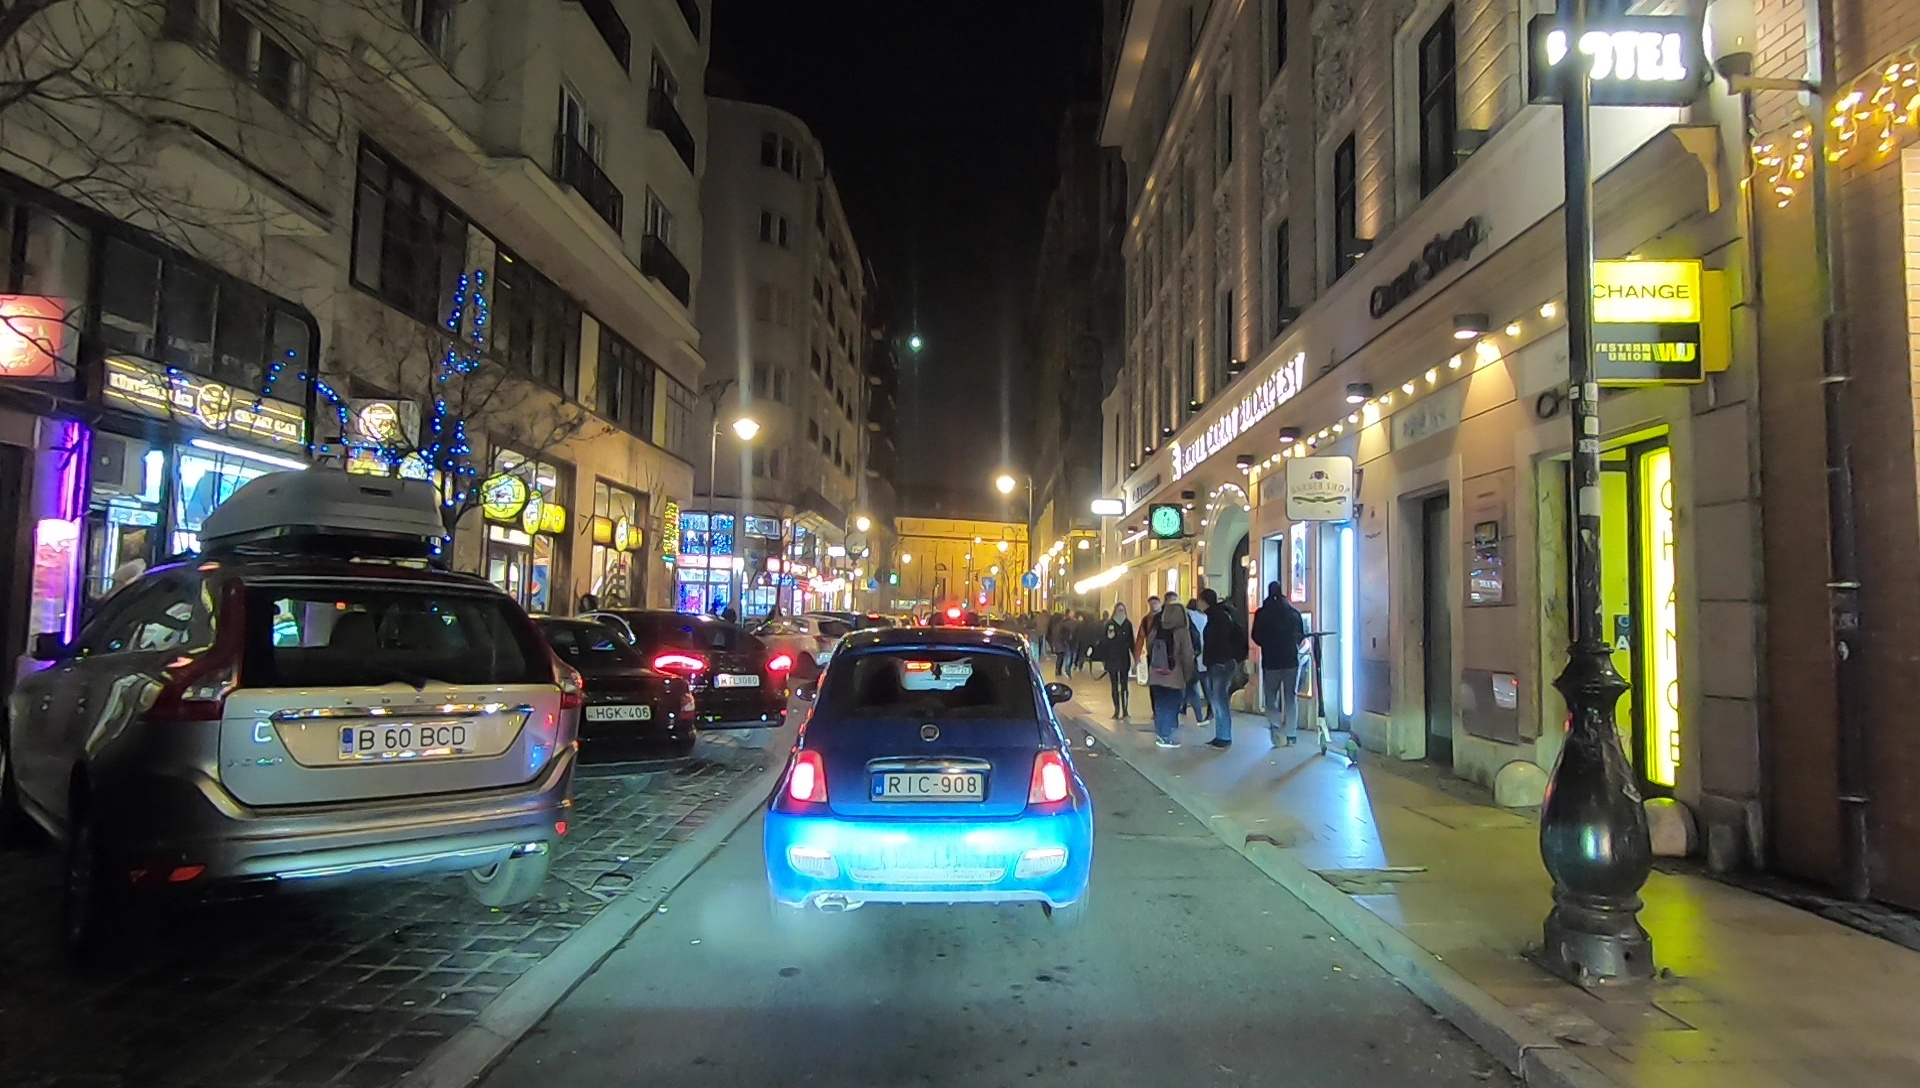person: (1253, 581, 1303, 749), (1196, 596, 1245, 750), (1153, 607, 1191, 750), (1137, 594, 1167, 727), (1098, 604, 1133, 722), (1049, 610, 1069, 680)
